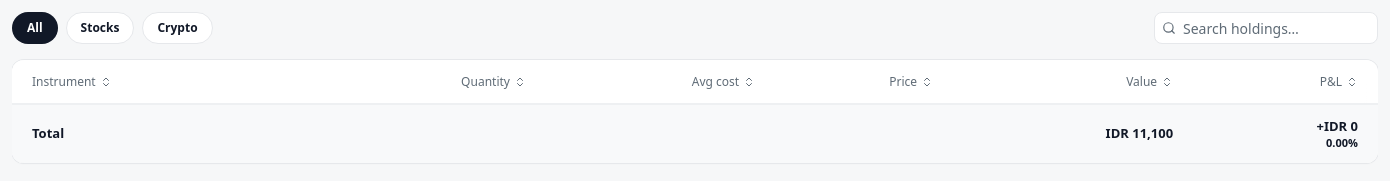
PositionsPanel › reflects the searched subset in the footer Total
This screenshot has width=1390, height=181.
Expected: the text "IDR 11,100" is shown, [945,104,1185,163]
Type "BBCA" into the field with placeholder "Search holdings…" at (1266,28), box [1154,12,1378,44]
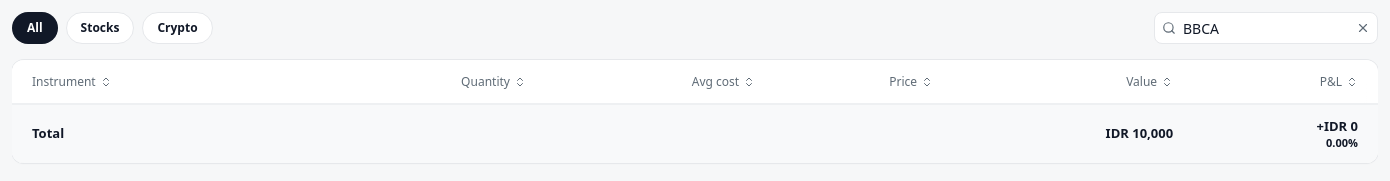
Expected: the text "IDR 10,000" is shown, [945,104,1185,163]
